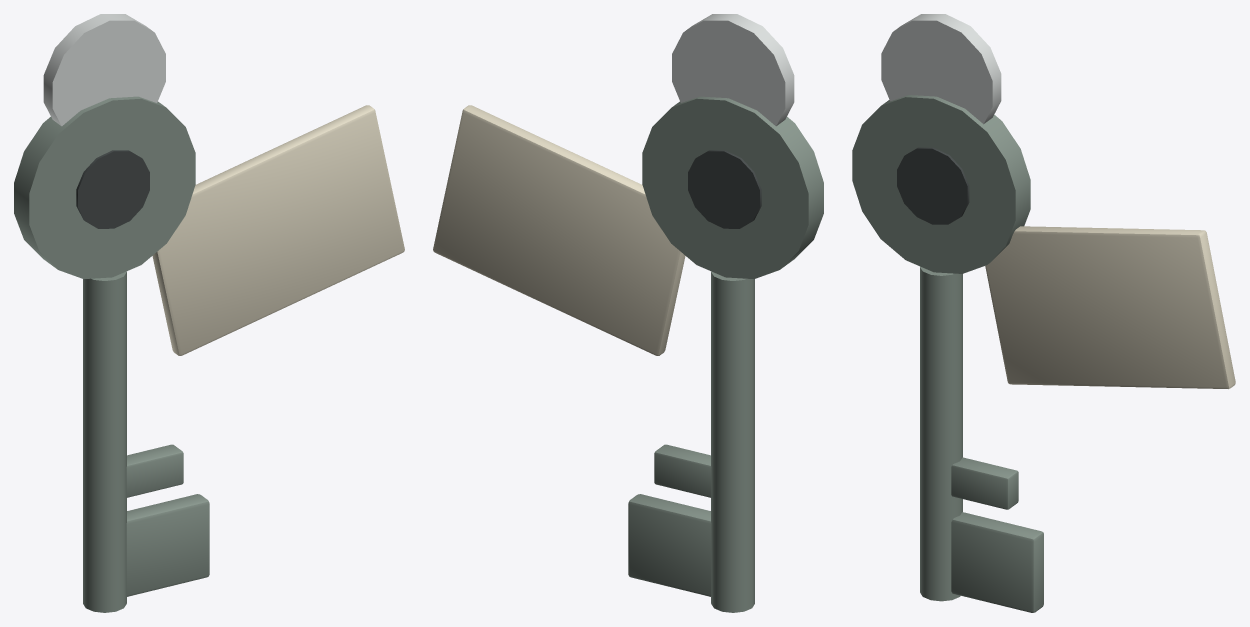
Rendered from CTCC_PROP_WingCKey.fbx.
3 views of the same model, side by side, from view 1: azimuth 30°, elevation 25°; view 2: azimuth 150°, elevation 25°; view 3: azimuth 330°, elevation 25° (orthographic).
Visible parts, largest first — view 1: CTCC_PROP_WingCKey; view 2: CTCC_PROP_WingCKey; view 3: CTCC_PROP_WingCKey.
Part boxes in pixels (x1,y1,x2,y2): CTCC_PROP_WingCKey: [14, 14, 404, 612]; CTCC_PROP_WingCKey: [433, 14, 823, 612]; CTCC_PROP_WingCKey: [852, 14, 1235, 612].
Size of the model in its own units: 0.0721 by 0.106 by 0.0072.
